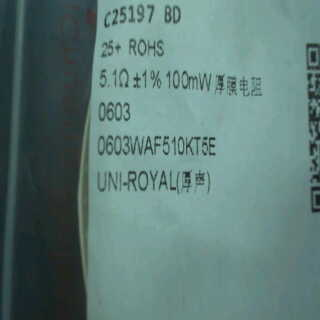5.1R: (97, 67, 130, 94)
